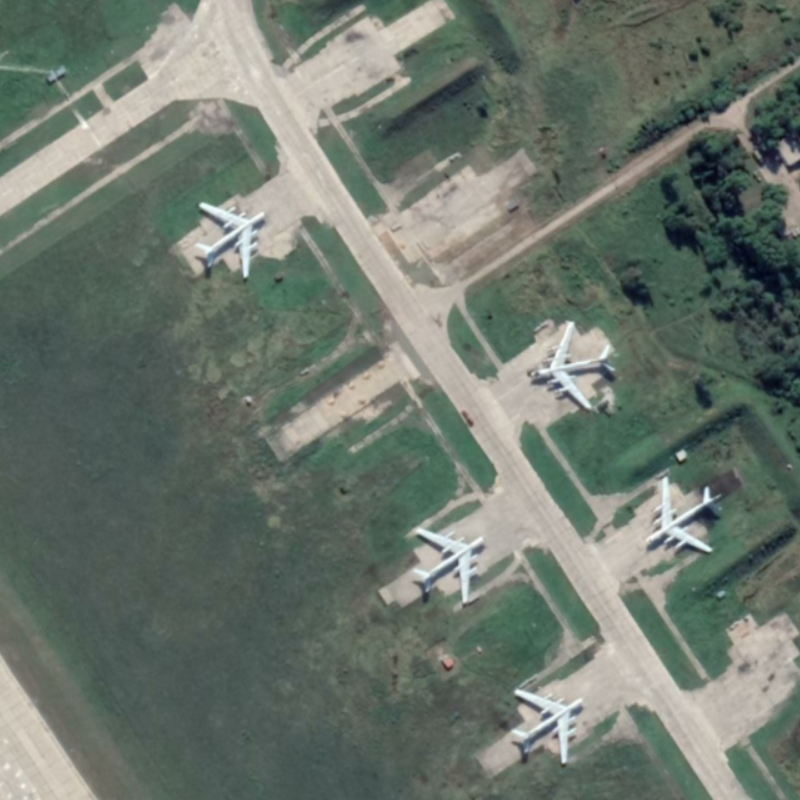A17: (528, 319, 621, 413), (643, 474, 725, 555), (410, 525, 486, 607), (509, 686, 585, 767), (193, 200, 268, 281)
